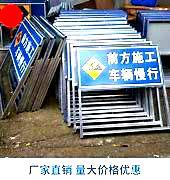sign: (78, 47, 162, 85), (7, 26, 35, 70)
